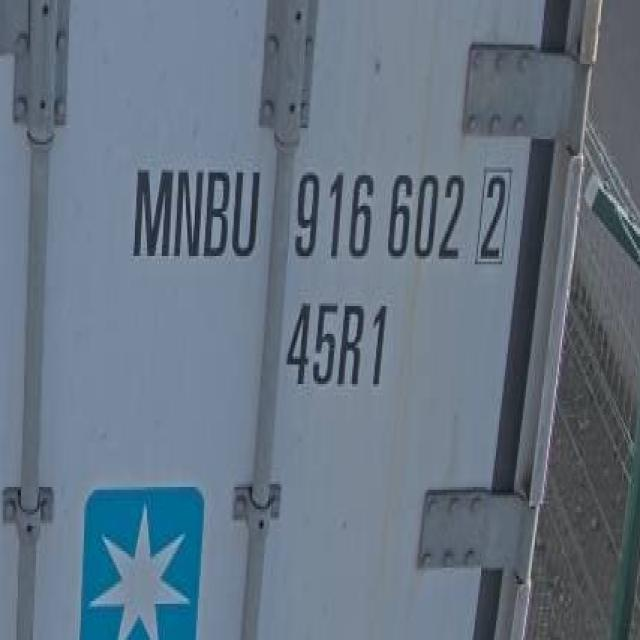dv: (471, 154, 515, 272)
owner: (127, 153, 263, 274)
serial: (290, 158, 466, 272)
size: (286, 290, 395, 398)
